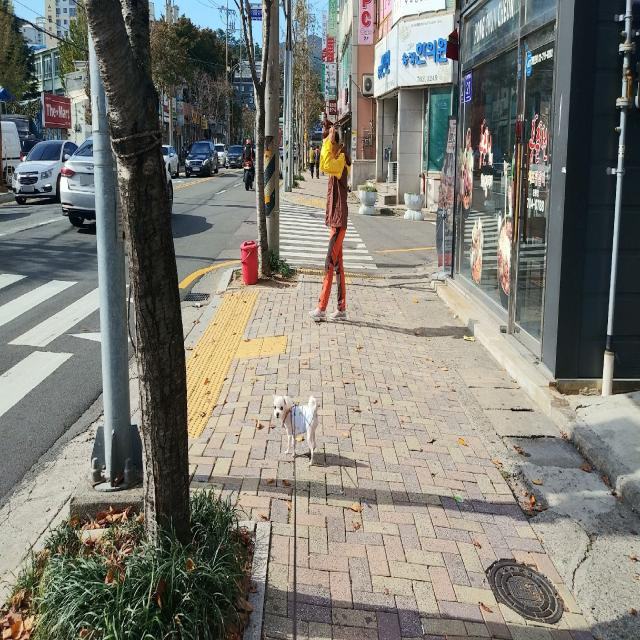횡단보도: (0, 248, 165, 447), (255, 203, 379, 271)
